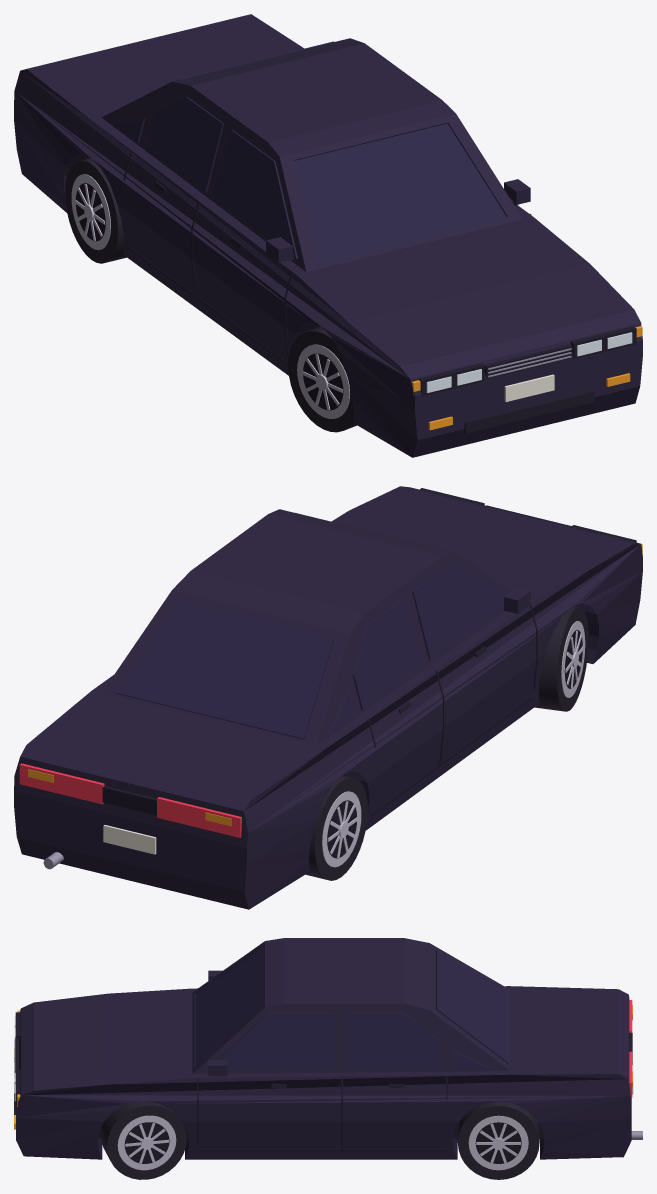
The model's file is mark_ii_j_night.glb.
The picture shows the model from 3 angles, top to bottom: view 1: azimuth 30°, elevation 25°; view 2: azimuth 150°, elevation 25°; view 3: azimuth 270°, elevation 25°; orthographic projection. The views are drawn at different scales.
Parts seen in each view (by area): view 1: body_top, cabin, glass_windshield, body_mid, body_low_front, body_low_mid, glass_door_front, glass_door_rear, wheel_RL_tire, body_low_rear, wheel_FL_tire, intake (+8 smaller); view 2: body_top, cabin, glass_rear, body_mid, body_low_rear, body_low_mid, glass_door_front, glass_door_rear, wheel_FL_tire, body_low_front, wheel_RL_tire, taillamp_L (+6 smaller); view 3: body_top, cabin, body_mid, body_low_mid, glass_door_front, glass_rear, glass_door_rear, glass_windshield, body_low_rear, body_low_front, wheel_FR_tire, wheel_RR_tire (+6 smaller).
Boxes of the visible parts, x1,y1,x2,y2 form: body_top: (14,14,640,378); cabin: (101,38,522,271); glass_windshield: (294,122,507,263); body_mid: (14,91,642,410); body_low_front: (347,355,642,457); body_low_mid: (117,204,303,375); glass_door_front: (214,129,297,258); glass_door_rear: (146,97,223,192); wheel_RL_tire: (65,158,126,263); body_low_rear: (14,120,72,212); wheel_FL_tire: (288,326,356,432); intake: (464,391,594,433); body_top: (14,486,640,832); cabin: (101,509,511,745); glass_rear: (115,600,334,739); body_mid: (14,544,642,862); body_low_rear: (14,806,315,909); body_low_mid: (360,653,545,830); glass_door_front: (412,560,505,660); glass_door_rear: (352,598,422,710); wheel_FL_tire: (534,606,588,711); body_low_front: (585,571,642,663); wheel_RL_tire: (305,775,367,880); taillamp_L: (157,797,241,837); body_top: (21,986,630,1095); cabin: (192,938,510,1074); body_mid: (16,1009,631,1122); body_low_mid: (183,1122,458,1159); glass_door_front: (207,1012,335,1069); glass_rear: (436,950,509,1064); glass_door_rear: (348,1012,439,1069); glass_windshield: (194,948,259,1065); body_low_rear: (538,1119,631,1159); body_low_front: (16,1118,103,1159); wheel_FR_tire: (100,1101,186,1179); wheel_RR_tire: (457,1101,539,1179).
Bounding box in the file's own units: 1.88 × 1.4 × 4.93.
